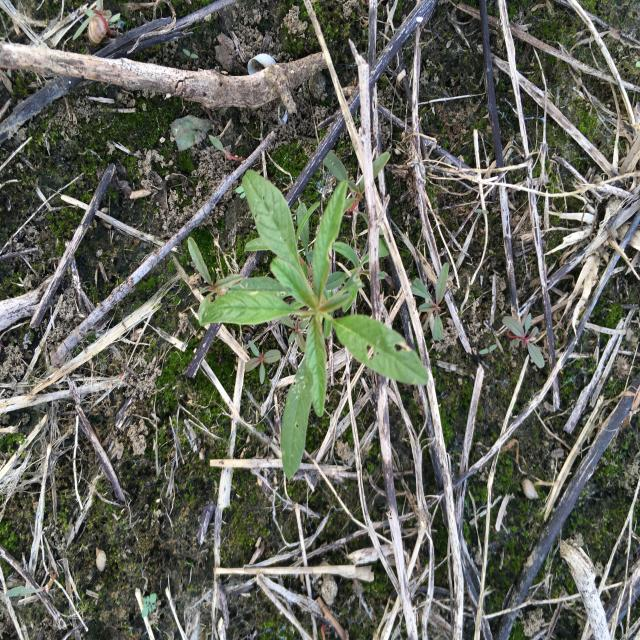Waterhemp: (200, 167, 430, 482), (323, 149, 392, 234), (409, 258, 452, 345), (500, 308, 548, 371)
